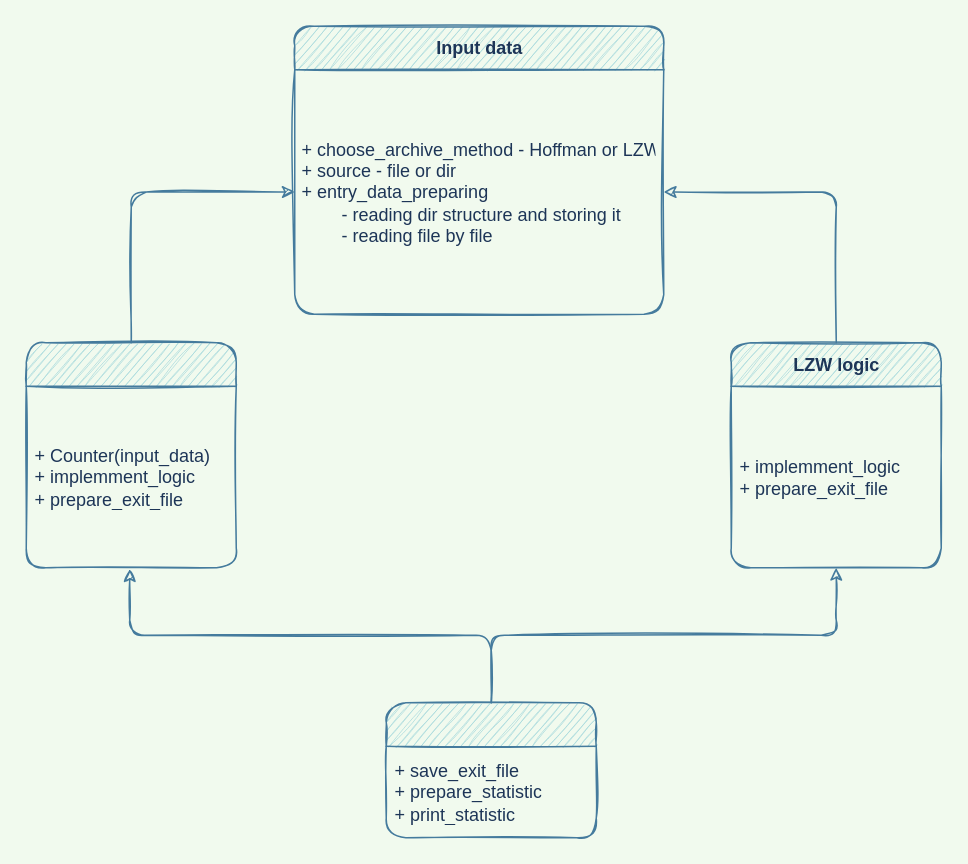
Some shapes in this 968 by 864 pixel diagram are drawn without their labels. Here are the shapes that lost their labels. From the top down, the box of each, then its label:
(25, 341, 236, 568): Huffman logic
(385, 701, 596, 838): Output data
